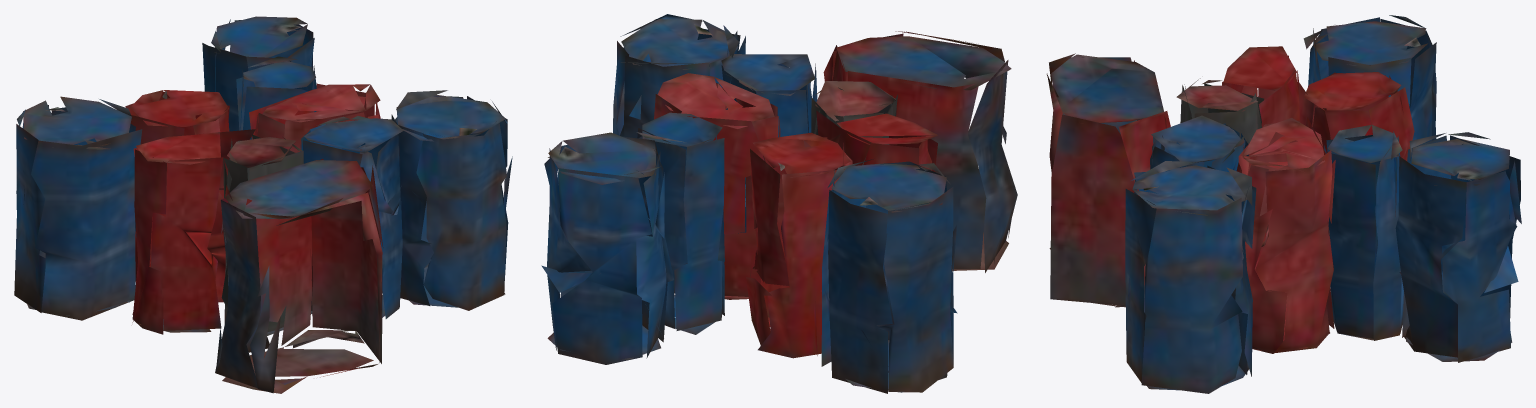
The model's file is hafen_faesser.glb.
3 views of the same model, side by side, from view 1: azimuth 30°, elevation 25°; view 2: azimuth 150°, elevation 25°; view 3: azimuth 270°, elevation 25° (orthographic). The views are drawn at different scales.
Parts seen in each view (by area): view 1: Prop; view 2: Prop; view 3: Prop.
Part boxes in pixels (<box>): Prop: <box>14,16,512,393</box>; Prop: <box>541,14,1017,393</box>; Prop: <box>1046,15,1521,393</box>.
Size of the model in its own units: 2.31 by 1.05 by 2.32.
1 material, 1 textured.
